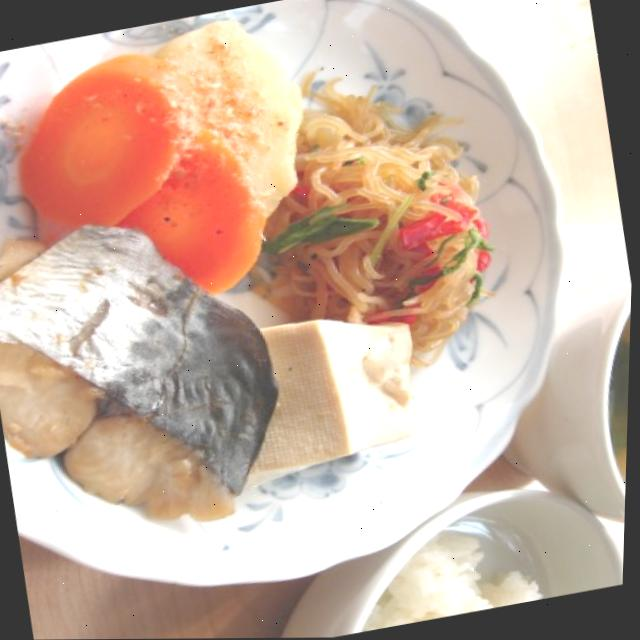熟制海鲜: (0, 185, 317, 564)
